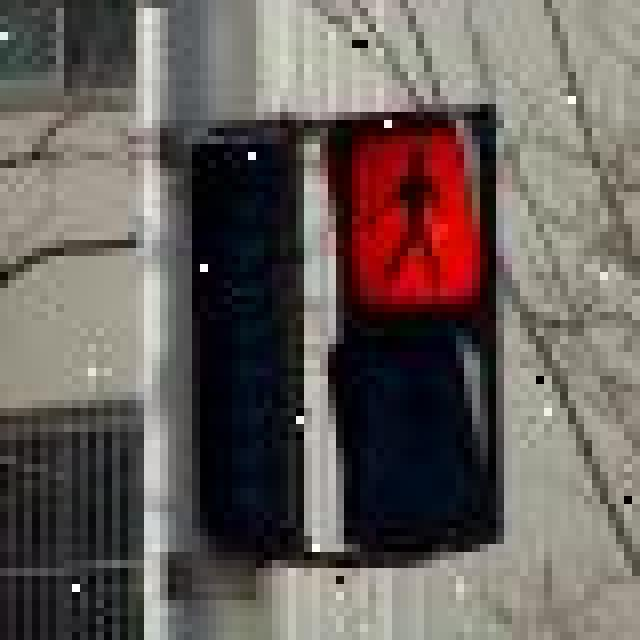redlight: (312, 96, 520, 528)
